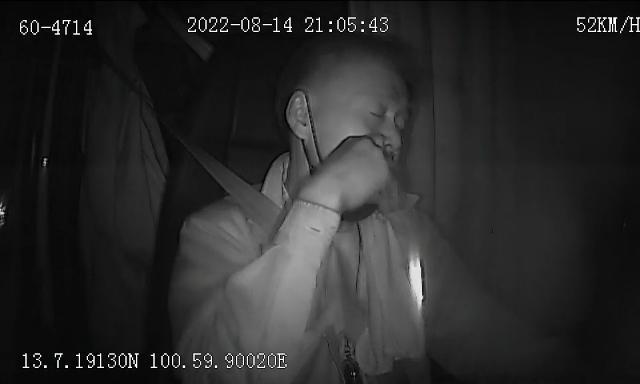Seatbelt: (136, 86, 377, 330)
